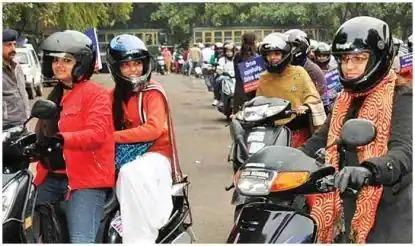helmet: (330, 16, 396, 93), (41, 29, 97, 83), (105, 34, 152, 93), (257, 32, 292, 74), (280, 29, 311, 67), (314, 42, 332, 68), (223, 44, 235, 59), (213, 42, 224, 56)
